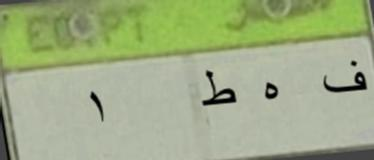1: (82, 84, 110, 129)
Taa: (196, 64, 236, 114)
faa: (316, 54, 372, 96)
haa: (255, 76, 284, 108)
